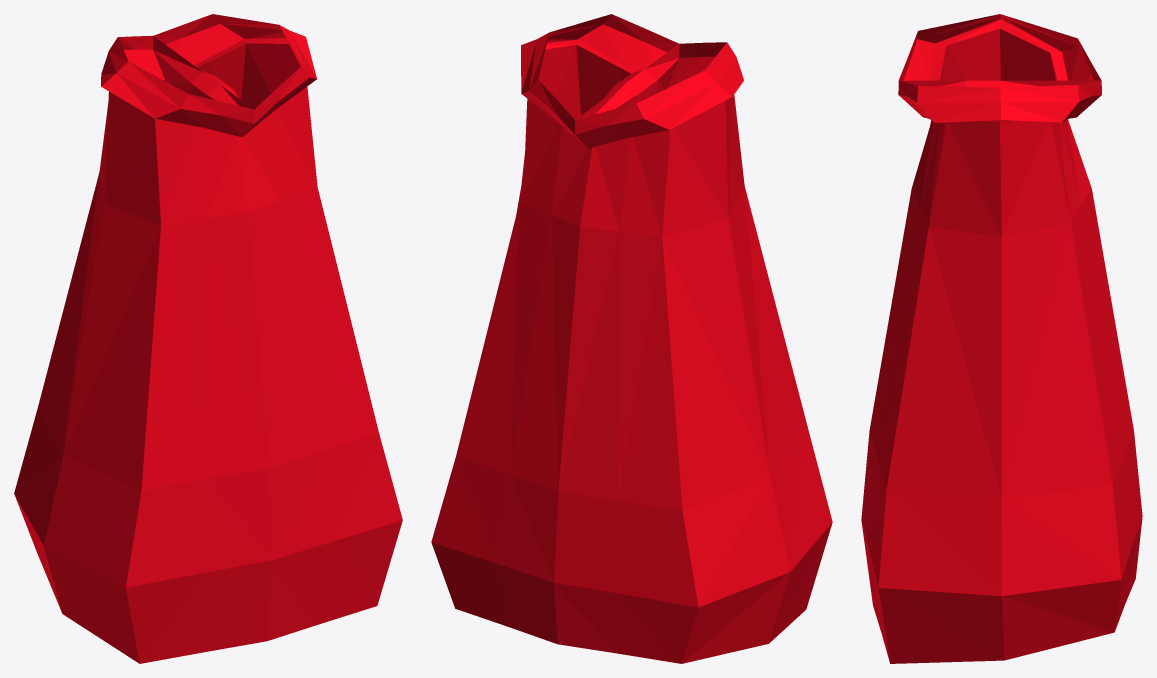
File: body.dae
The picture shows the model from 3 angles, left to right: view 1: azimuth 30°, elevation 25°; view 2: azimuth 150°, elevation 25°; view 3: azimuth 270°, elevation 25°; orthographic projection. The views are drawn at different scales.
Parts seen in each view (by area): view 1: shirt; view 2: shirt; view 3: shirt.
Boxes of the visible parts, <box> form: shirt: <box>14,14,402,663</box>; shirt: <box>431,14,832,663</box>; shirt: <box>861,14,1142,663</box>.
Bounding box in the file's own units: 1.27 × 0.9702 × 2.11.
1 material, 1 textured.
